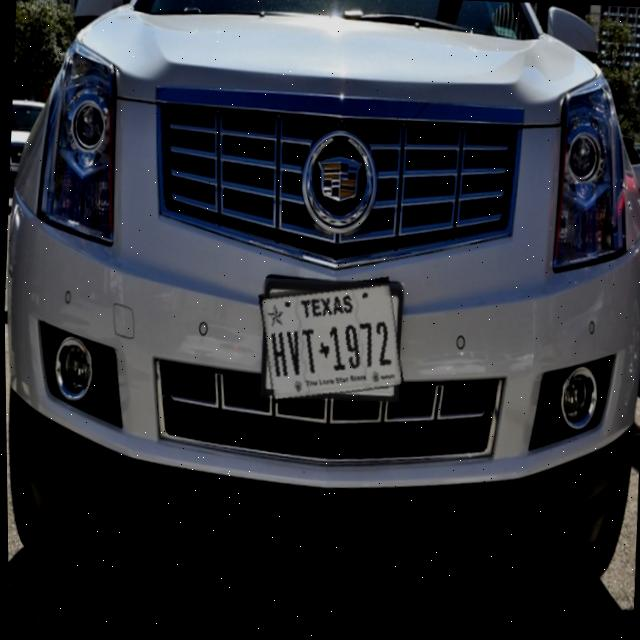LicensePlate: (257, 277, 404, 406)
